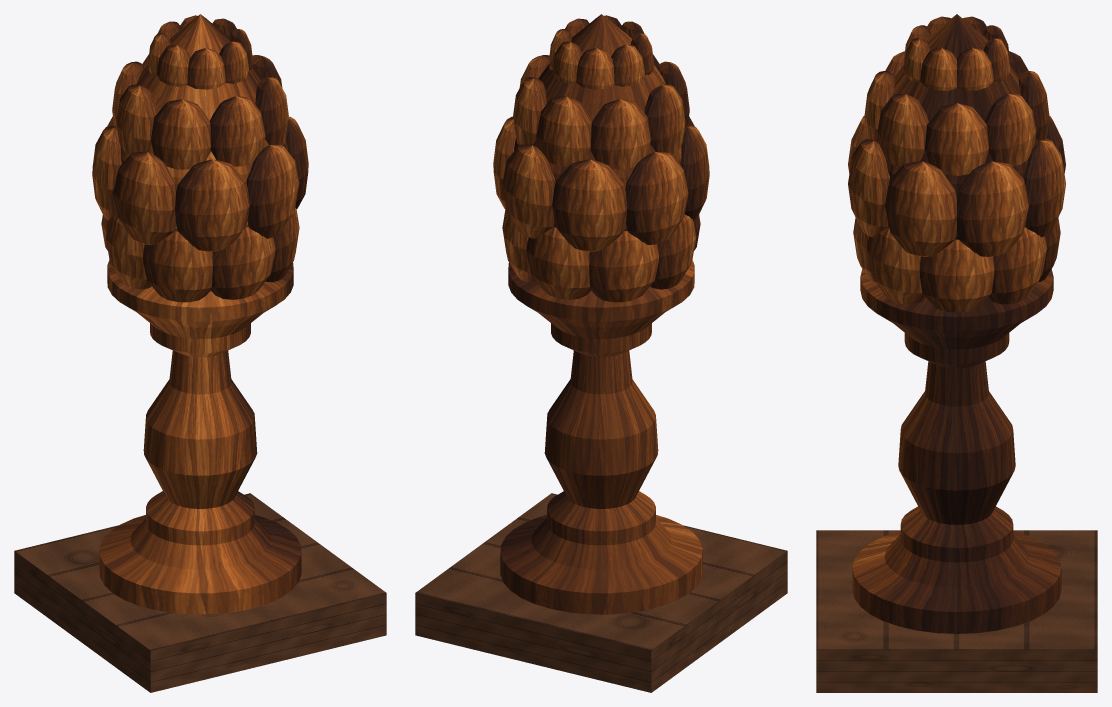
The model's file is statue.obj.
3 renders of one model, left to right at view 1: azimuth 30°, elevation 25°; view 2: azimuth 150°, elevation 25°; view 3: azimuth 270°, elevation 25°, orthographic. The views are drawn at different scales.
Visible parts, largest first — view 1: material_0, material_5; view 2: material_0, material_5; view 3: material_0, material_5.
Part boxes in pixels (left/top/right/bottom): material_0: left=92, top=14, right=308, bottom=614; material_5: left=14, top=493, right=386, bottom=692; material_0: left=493, top=14, right=709, bottom=614; material_5: left=415, top=493, right=787, bottom=692; material_0: left=848, top=14, right=1065, bottom=633; material_5: left=816, top=530, right=1097, bottom=692.
Bounding box in the file's own units: 11.2 × 27.2 × 11.2.
2 materials, 2 textured.
